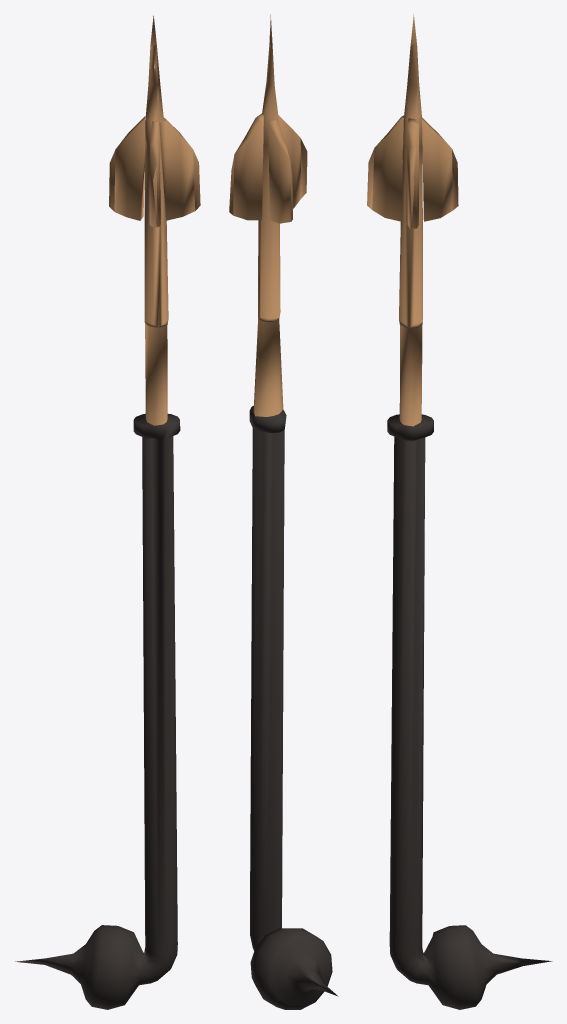
The model's file is AuthenticTuskanRaiderStaff.fbx.
3 views of the same model, side by side, from view 1: azimuth 90°, elevation 25°; view 2: azimuth 210°, elevation 25°; view 3: azimuth 270°, elevation 25° (orthographic).
Parts seen in each view (by area): view 1: Ghaffi Staff; view 2: Ghaffi Staff; view 3: Ghaffi Staff.
Part boxes in pixels (x1,y1,x2,y2): Ghaffi Staff: (15,15,200,1009); Ghaffi Staff: (229,14,338,1009); Ghaffi Staff: (367,14,552,1009).
Bounding box in the file's own units: 0.0612 × 0.7314 × 0.1243.
